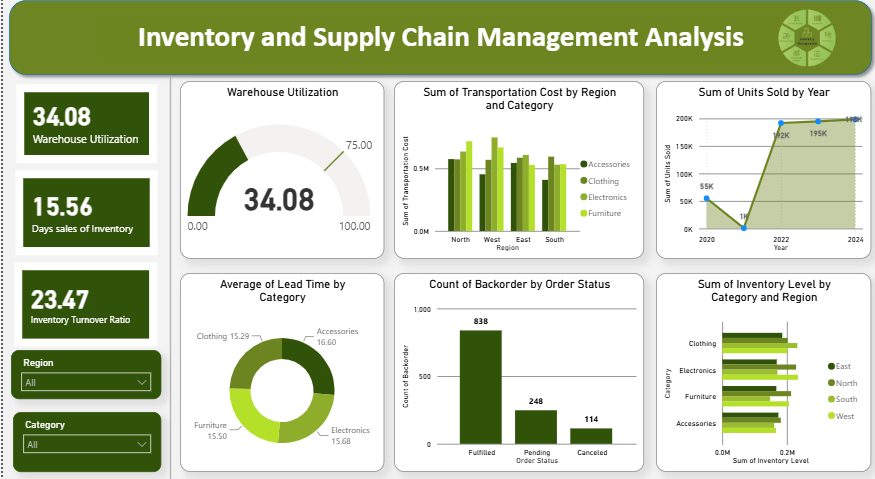

The dashboard page shown, as its layout file describes it:
{"tool":"powerbi","page":{"name":"Page 1","canvas":[1280,720],"ordinal":0},"visuals":[{"type":"shape","box":[0,0,1280.5,127.3],"z":0},{"type":"textbox","box":[142,30.7,998,65.9],"z":1000},{"type":"image","box":[1099,8.8,155.1,111.2],"z":2000},{"type":"shape","box":[231.2,120,27.8,600],"z":3000},{"type":"cardVisual","fields":{"Data":["Inventory and Supply Chain Dataset.Warehouse Utilization"]},"box":[14.6,127.3,216.6,125.9],"z":4000},{"type":"cardVisual","fields":{"Data":["Inventory and Supply Chain Dataset.Days sales of Inventory"]},"box":[13.2,253.2,218,134.6],"z":5000},{"type":"cardVisual","fields":{"Data":["Inventory and Supply Chain Dataset.Inventory Turnover Ratio"]},"box":[11.7,387.8,219.5,133.2],"z":6000},{"type":"slicer","fields":{"Values":["Inventory and Supply Chain Dataset.Region"]},"box":[11.7,521,219.5,71.7],"z":7000},{"type":"slicer","fields":{"Values":["Inventory and Supply Chain Dataset.Category"]},"box":[14.6,611.7,216.6,87.8],"z":8000},{"type":"gauge","fields":{"Y":["Inventory and Supply Chain Dataset.Warehouse Utilization"]},"box":[259,127.3,298.5,260.5],"z":9000},{"type":"clusteredColumnChart","fields":{"Y":["Sum(Inventory and Supply Chain Dataset.Transportation Cost)"],"Category":["Inventory and Supply Chain Dataset.Region"],"Series":["Inventory and Supply Chain Dataset.Category"]},"box":[572.2,127.3,365.9,260.5],"z":10000},{"type":"lineChart","fields":{"Y":["Sum(Inventory and Supply Chain Dataset.Units Sold)"],"Category":["Inventory and Supply Chain Dataset.Date.Variation.Date Hierarchy.Year"]},"box":[955.6,127.3,314.6,260.5],"z":11000},{"type":"donutChart","fields":{"Y":["Avg(Inventory and Supply Chain Dataset.Lead Time)"],"Category":["Inventory and Supply Chain Dataset.Category"]},"box":[259,408.3,298.5,291.2],"z":12000},{"type":"columnChart","fields":{"Y":["CountNonNull(Inventory and Supply Chain Dataset.Backorder)"],"Category":["Inventory and Supply Chain Dataset.Order Status"]},"box":[572,408,366,291],"z":13000},{"type":"clusteredBarChart","fields":{"Y":["Sum(Inventory and Supply Chain Dataset.Inventory Level)"],"Category":["Inventory and Supply Chain Dataset.Category"],"Series":["Inventory and Supply Chain Dataset.Region"]},"box":[956,408,315,291],"z":14000}]}

Visuals, with their boxes in screenshot pixels (x1, y1, x2, y2), scaled from the page's 1280x720 canvas onto the 875x479 screenshot:
shape: crop(0, 0, 874, 85)
textbox: crop(97, 20, 779, 64)
image: crop(751, 6, 857, 80)
shape: crop(158, 80, 177, 478)
cardVisual - Inventory and Supply Chain Dataset.Warehouse Utilization: crop(10, 85, 158, 168)
cardVisual - Inventory and Supply Chain Dataset.Days sales of Inventory: crop(9, 168, 158, 258)
cardVisual - Inventory and Supply Chain Dataset.Inventory Turnover Ratio: crop(8, 258, 158, 347)
slicer - Inventory and Supply Chain Dataset.Region: crop(8, 347, 158, 394)
slicer - Inventory and Supply Chain Dataset.Category: crop(10, 407, 158, 465)
gauge - Inventory and Supply Chain Dataset.Warehouse Utilization: crop(177, 85, 381, 258)
clusteredColumnChart - Sum(Inventory and Supply Chain Dataset.Transportation Cost) x Inventory and Supply Chain Dataset.Region: crop(391, 85, 641, 258)
lineChart - Sum(Inventory and Supply Chain Dataset.Units Sold) x Inventory and Supply Chain Dataset.Date.Variation.Date Hierarchy.Year: crop(653, 85, 868, 258)
donutChart - Avg(Inventory and Supply Chain Dataset.Lead Time) x Inventory and Supply Chain Dataset.Category: crop(177, 272, 381, 465)
columnChart - CountNonNull(Inventory and Supply Chain Dataset.Backorder) x Inventory and Supply Chain Dataset.Order Status: crop(391, 271, 641, 465)
clusteredBarChart - Sum(Inventory and Supply Chain Dataset.Inventory Level) x Inventory and Supply Chain Dataset.Category: crop(654, 271, 869, 465)
